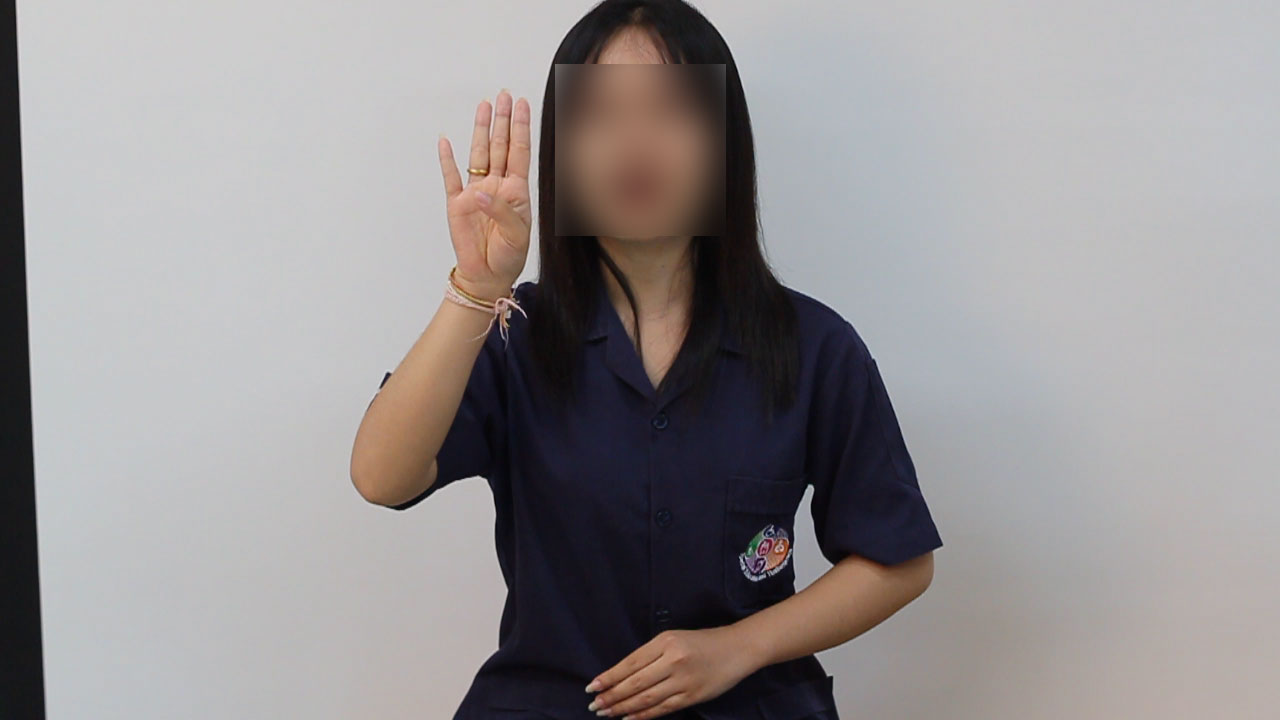bor: (421, 73, 542, 310)
